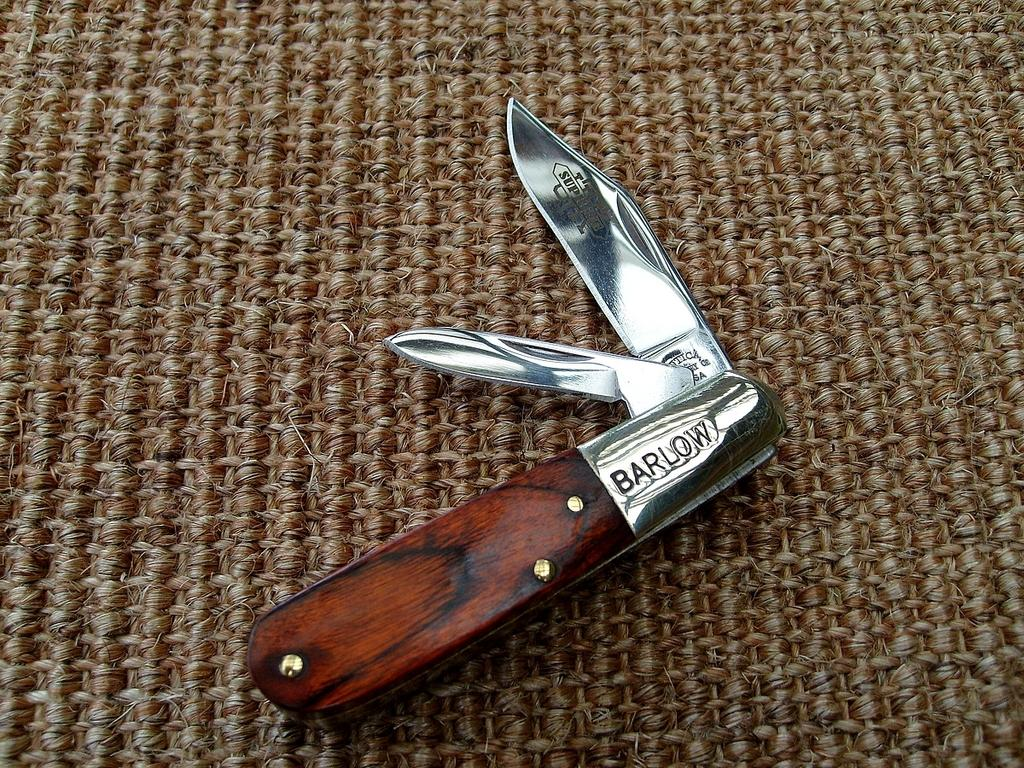Knife: (236, 90, 795, 727)
